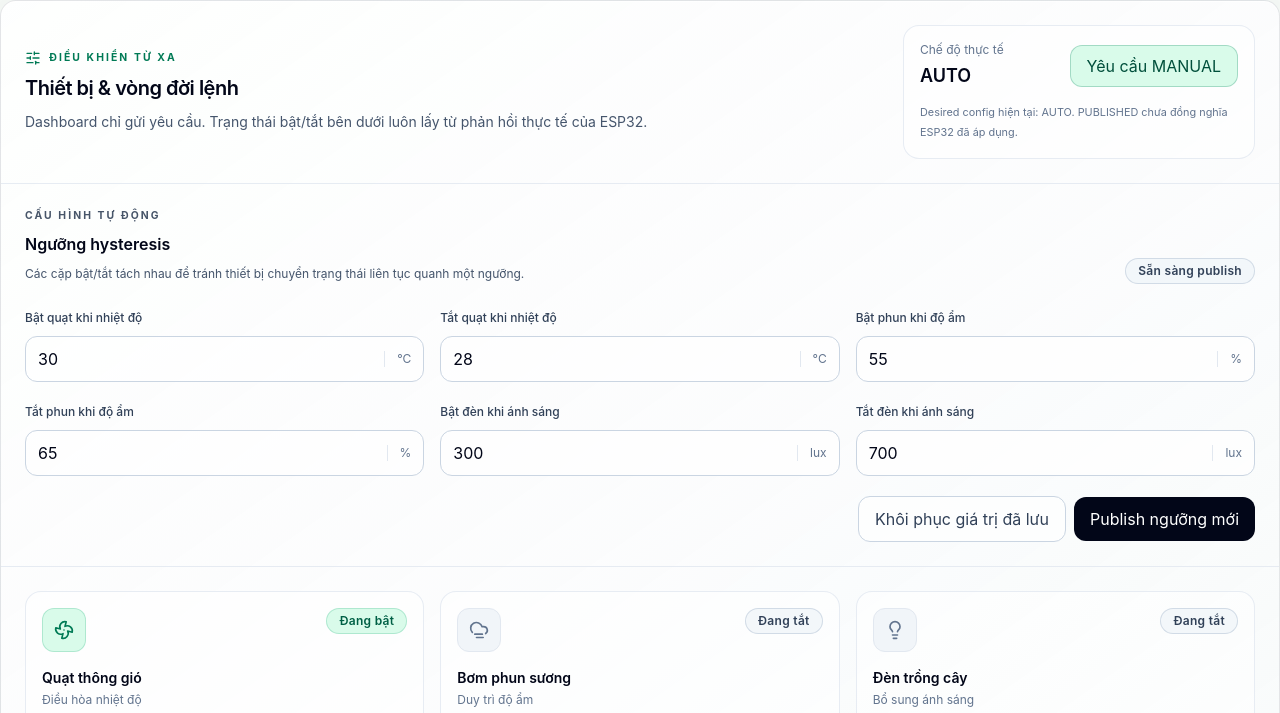
Scenario: ControlPanel › phân biệt PUBLISHED với trạng thái mode thực tế
Click the button "Yêu cầu MANUAL". click: (1154, 66)
box: [1070, 45, 1238, 87]
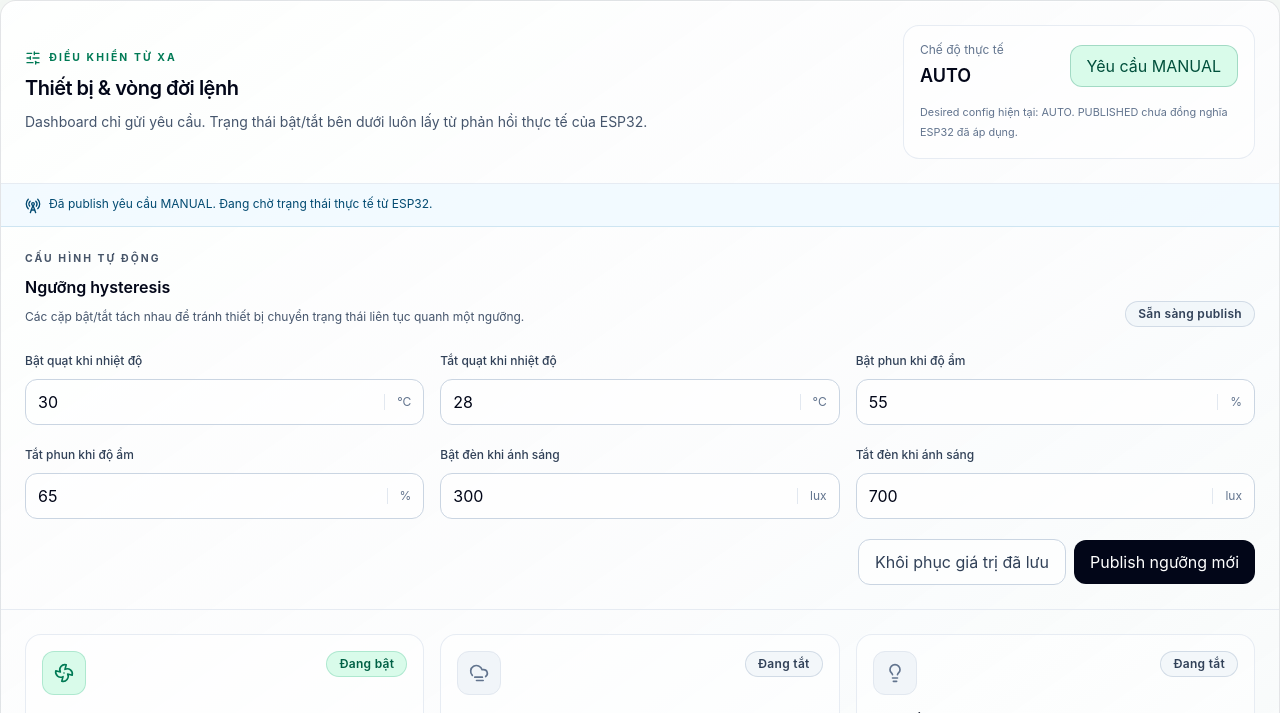
Check: the text "PUBLISHED chưa đồng nghĩa ESP32 đã áp dụng" is shown, box [920, 105, 1228, 139]
Check: the text "Đang chờ trạng thái thực tế từ ESP32" is shown, box [49, 196, 432, 211]
